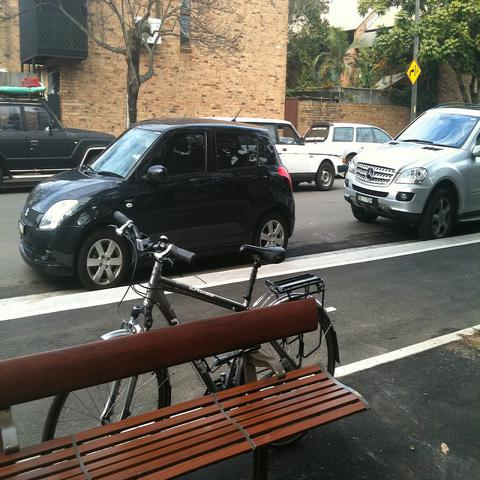car: (16, 121, 296, 287), (344, 106, 480, 238), (199, 117, 346, 192), (303, 123, 394, 178)
truck: (0, 90, 115, 182)
